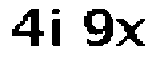4: (9, 6, 45, 49)
9: (80, 6, 116, 53)
i: (50, 4, 67, 51)
x: (116, 18, 149, 49)
